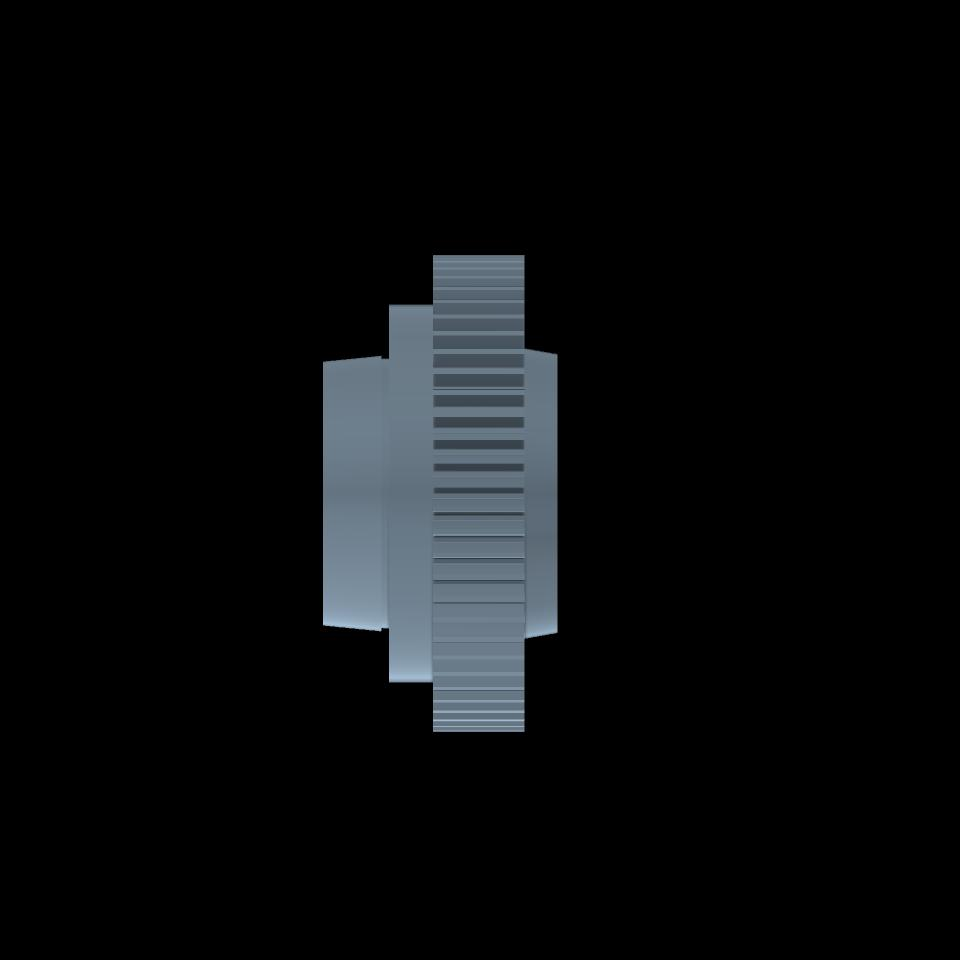Straight: (433, 254, 523, 732)
